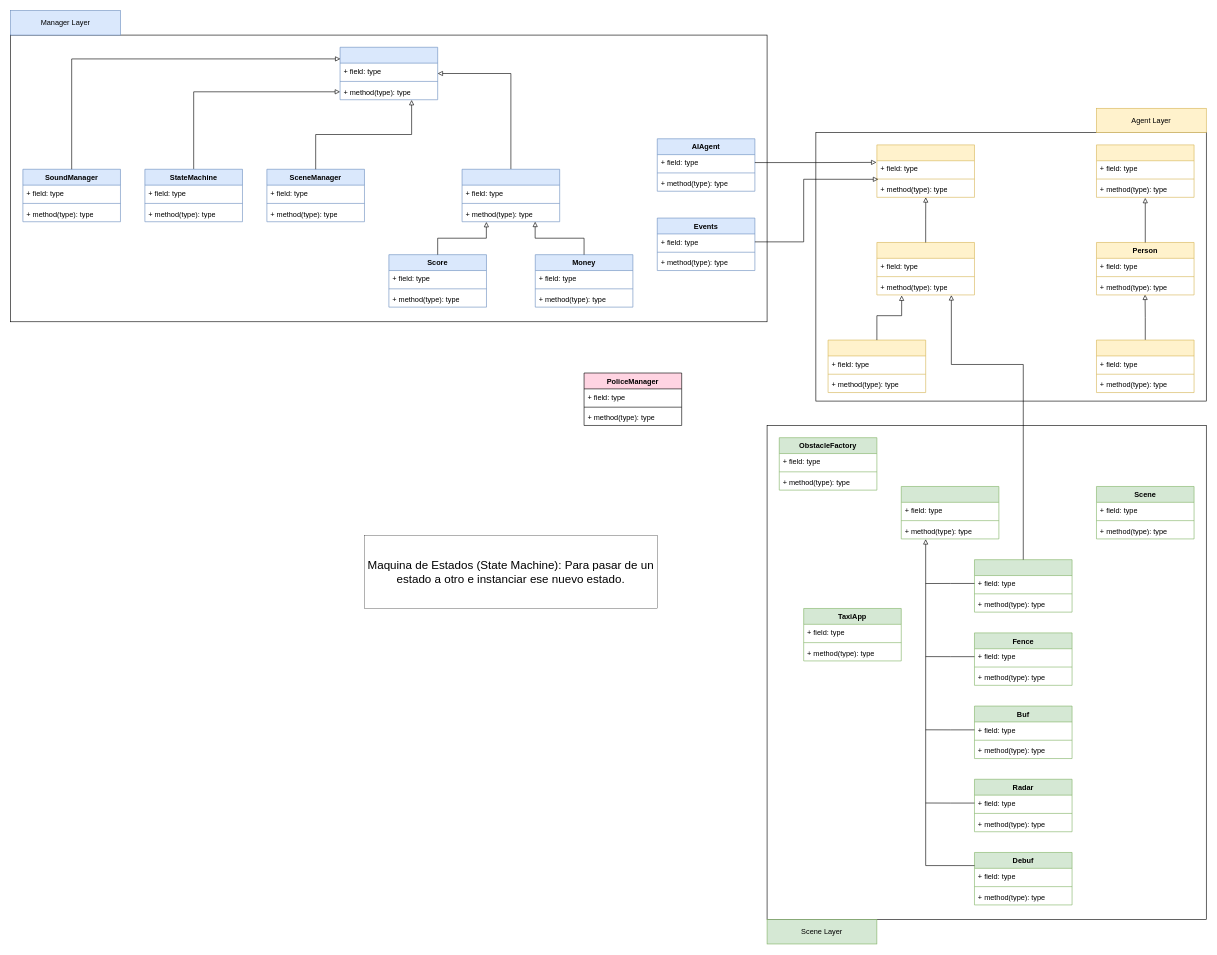
Some shapes in this 1217 by 955 pixel diagram are drawn without their labels. The shapes that lost their labels are listed below. From the top down, each one's box as (x1, y1, x2, y2) in pixels, then its label:
(339, 47, 438, 100): GameManager
(876, 144, 974, 197): VehicleController
(1096, 144, 1194, 197): PersonController
(461, 169, 560, 222): DataManager
(876, 242, 974, 295): Vehicle
(827, 339, 926, 393): Taxi
(1096, 339, 1194, 393): Passengers
(901, 486, 999, 539): Obstacle
(974, 559, 1072, 612): PoliceCar
